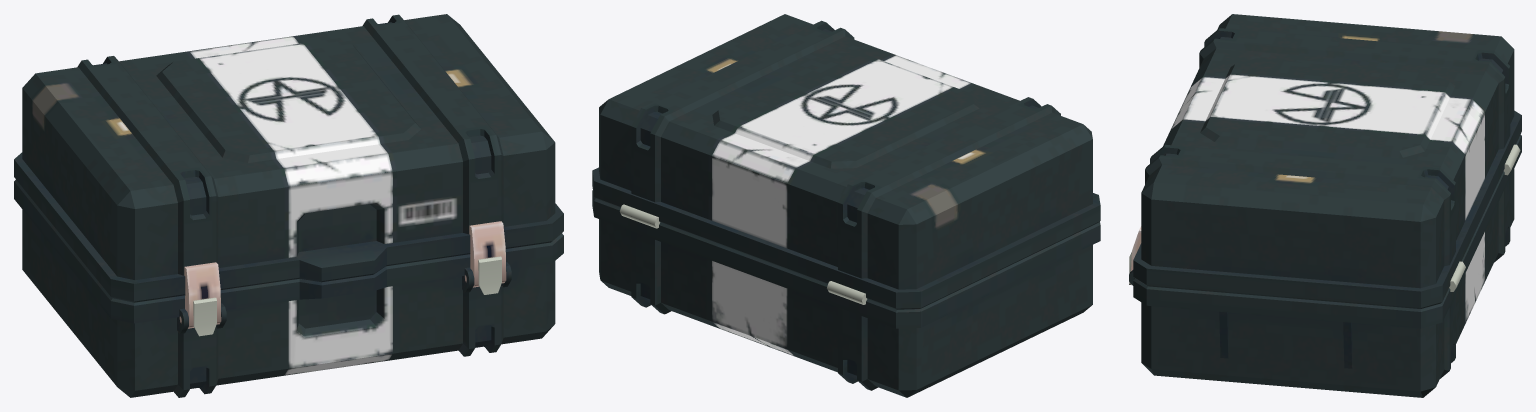
File: AirSupply (7).fbx
3 views of the same model, side by side, from view 1: azimuth 30°, elevation 25°; view 2: azimuth 150°, elevation 25°; view 3: azimuth 270°, elevation 25° (orthographic). The views are drawn at different scales.
Visible parts, largest first — view 1: Box_upper, Crate, Lock_R_01 1, Lock_L_01 1, Lock_L_02 1, Lock_R_02 1; view 2: Box_upper, Crate; view 3: Box_upper, Crate.
Part boxes in pixels (x1,y1,x2,y2): Box_upper: (14, 14, 563, 302); Crate: (14, 180, 563, 397); Lock_R_01 1: (469, 221, 506, 287); Lock_L_01 1: (184, 262, 221, 328); Lock_L_02 1: (193, 297, 216, 336); Lock_R_02 1: (478, 256, 501, 294); Box_upper: (592, 14, 1100, 309); Crate: (592, 190, 1100, 397); Box_upper: (1133, 14, 1521, 308); Crate: (1129, 134, 1521, 397).
Size of the model in its own units: 1.5 by 0.682 by 1.2.
Materials: 2 (2 with a texture image).
